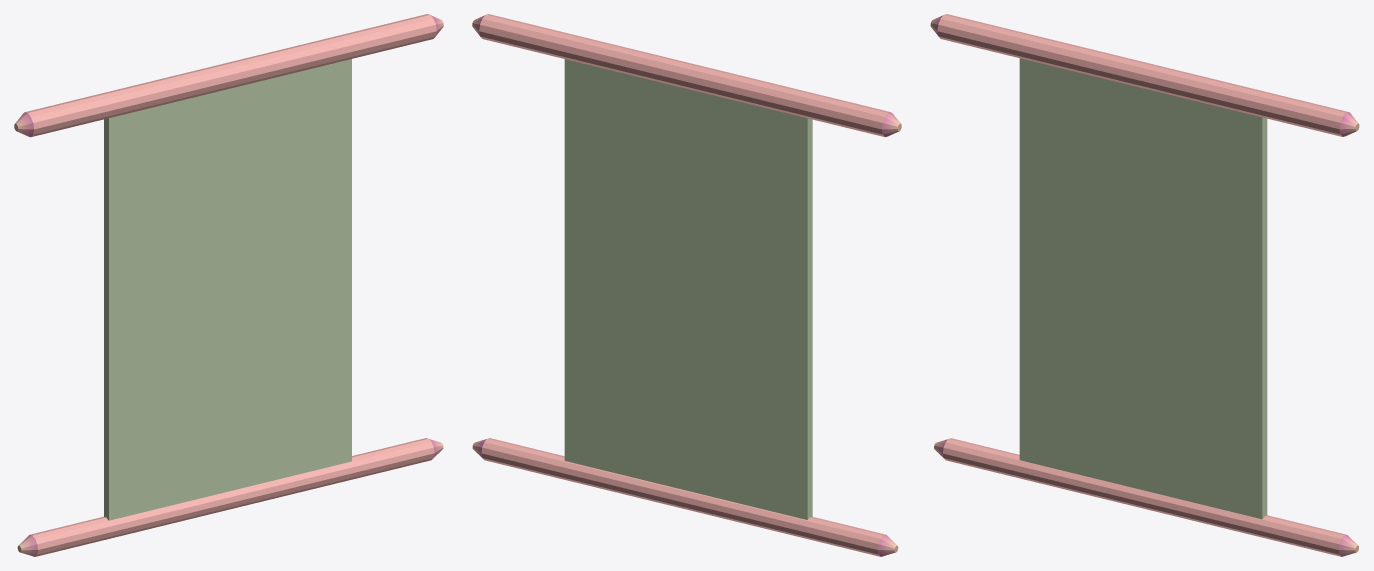
The picture shows the model from 3 angles, left to right: view 1: azimuth 30°, elevation 25°; view 2: azimuth 150°, elevation 25°; view 3: azimuth 330°, elevation 25°; orthographic projection.
Parts seen in each view (by area): view 1: sheet, top_pole, bottom_pole; view 2: sheet, top_pole, bottom_pole; view 3: sheet, top_pole, bottom_pole.
Part boxes in pixels (box(x1,y1,x2,y2)): sheet: box(104, 59, 351, 520); top_pole: box(14, 14, 443, 137); bottom_pole: box(17, 438, 443, 556); sheet: box(564, 59, 812, 519); top_pole: box(472, 14, 901, 137); bottom_pole: box(472, 438, 898, 556); sheet: box(1019, 58, 1267, 519); top_pole: box(930, 14, 1359, 136); bottom_pole: box(934, 438, 1358, 556).
Size of the model in its own units: 0.5988 by 0.5975 by 0.0315.
